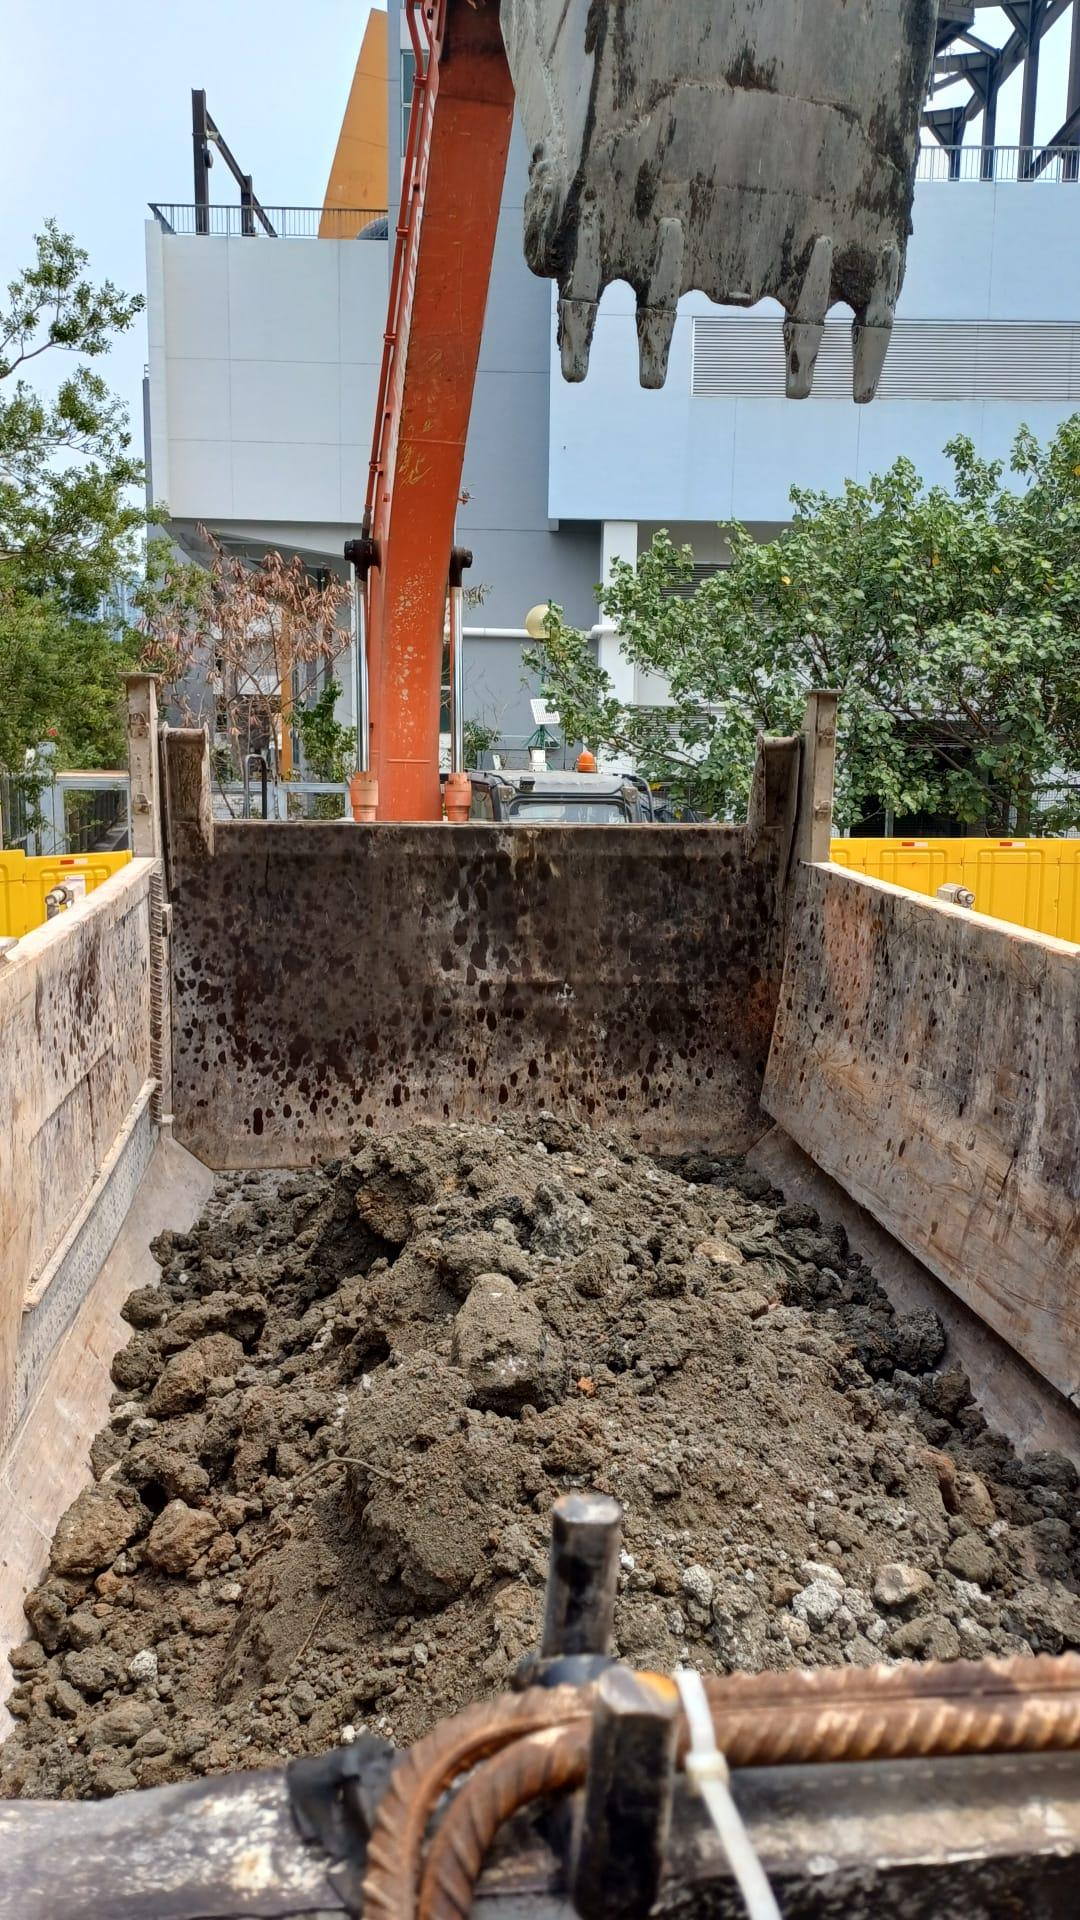wet: (0, 1130, 1080, 1796)
